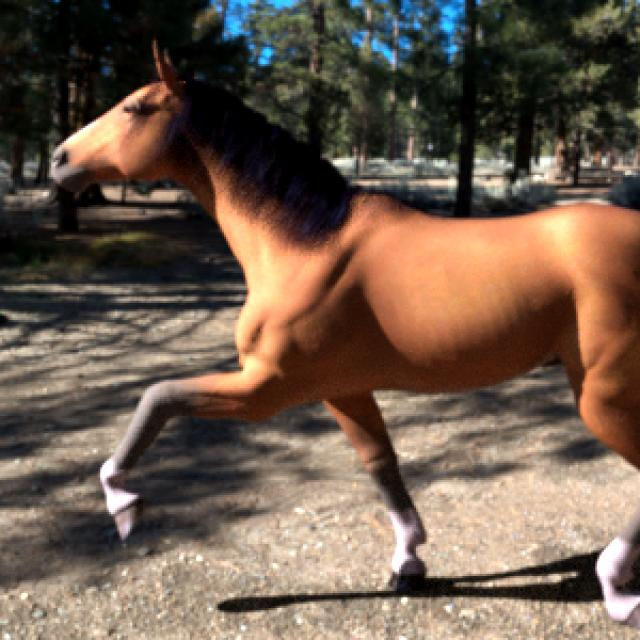horse: (52, 48, 640, 589)
